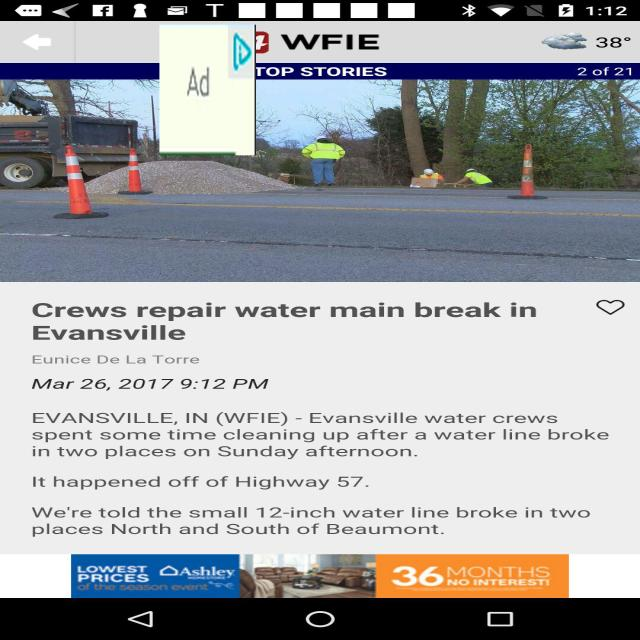sneaking: (159, 25, 256, 155)
